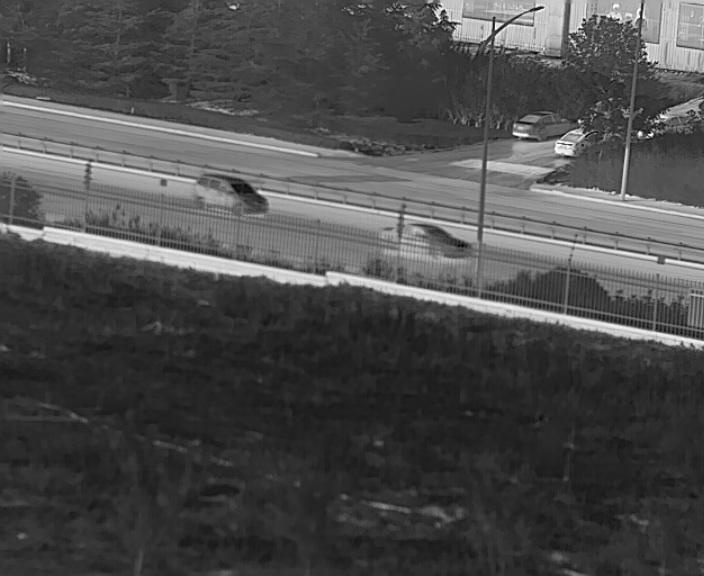vehicle: (380, 223, 477, 260), (192, 173, 268, 214), (512, 110, 568, 143), (555, 127, 593, 156)
